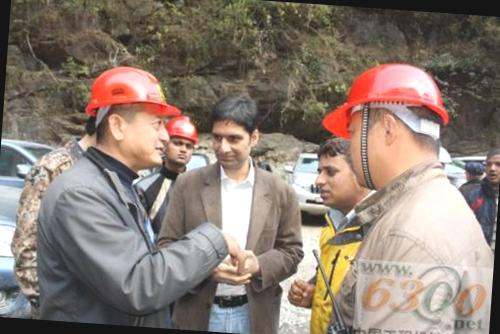no_helmet: (204, 86, 264, 169), (306, 131, 368, 208), (482, 147, 500, 190)
